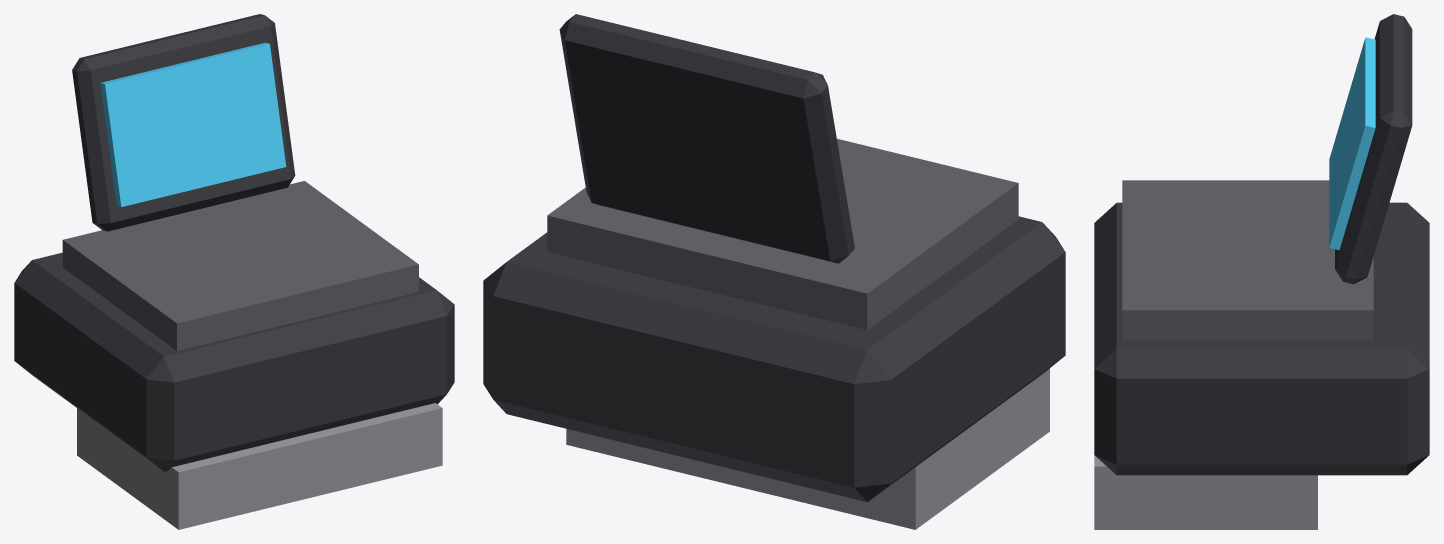
The model's file is CashRegister.fbx.
3 views of the same model, side by side, from view 1: azimuth 30°, elevation 25°; view 2: azimuth 150°, elevation 25°; view 3: azimuth 270°, elevation 25° (orthographic). The views are drawn at different scales.
Visible parts, largest first — view 1: CashRegister; view 2: CashRegister; view 3: CashRegister.
Part boxes in pixels (<box>): CashRegister: <box>14,14,454,529</box>; CashRegister: <box>483,14,1065,529</box>; CashRegister: <box>1094,14,1429,529</box>.
Size of the model in its own units: 1.4 by 1.57 by 1.2.
Materials: 1 (1 with a texture image).
